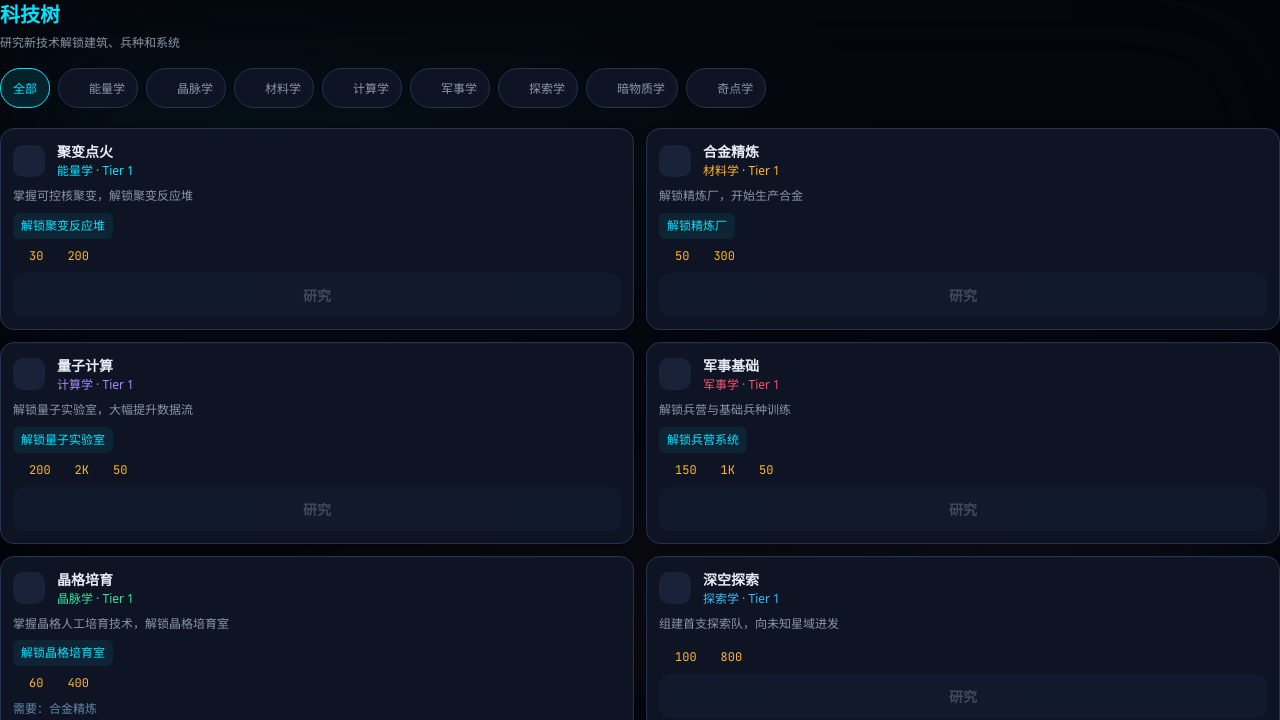
TechView — 挂载与筛选 › 点击分支页签只显示该分支科技
Click the button with class "branch-tab" showing "能量学": (98, 88) 58,68 -> 138,108
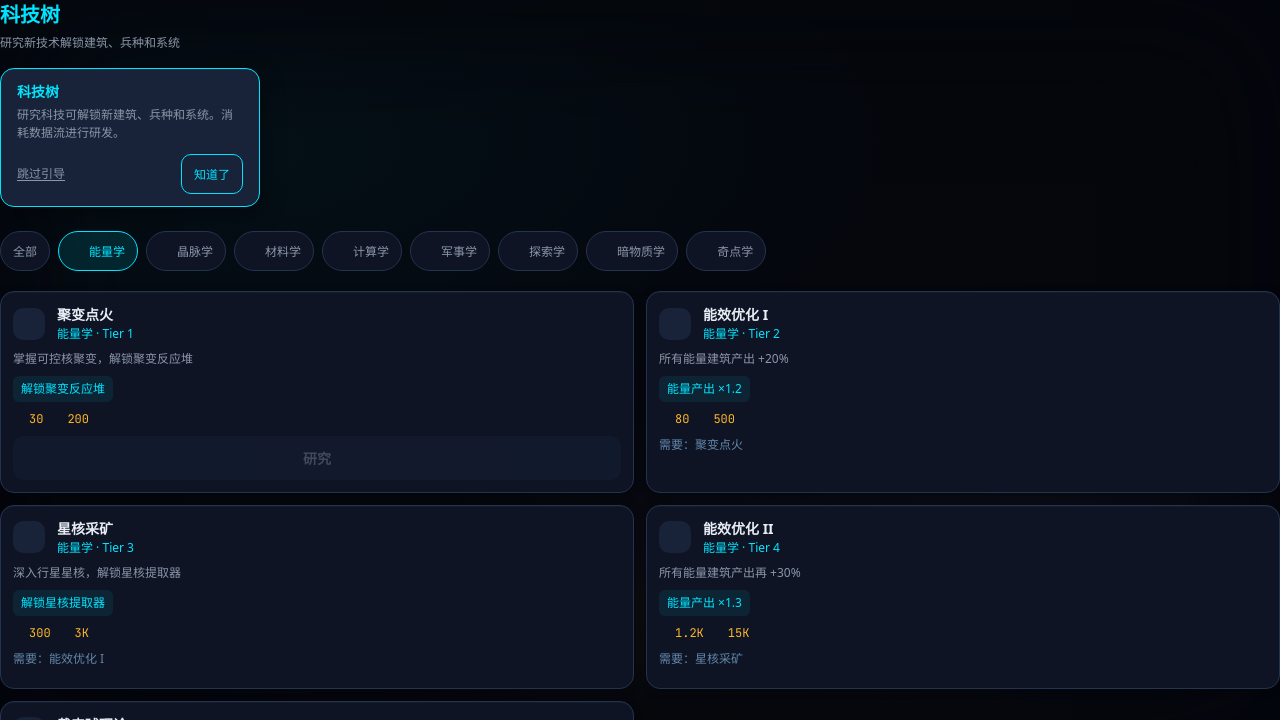
Click the button with class "branch-tab" showing "全部": (25, 251) 0,231 -> 50,271
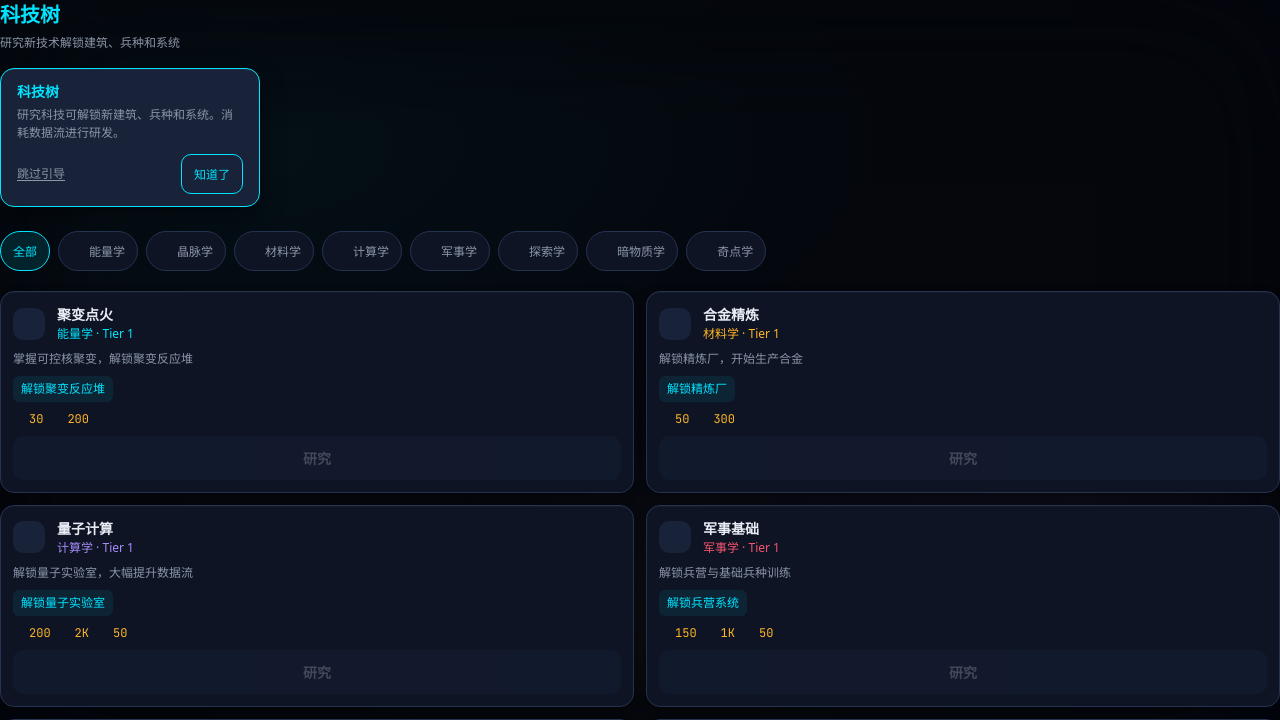
Check: the number of list items with class "tech-card" is 59
